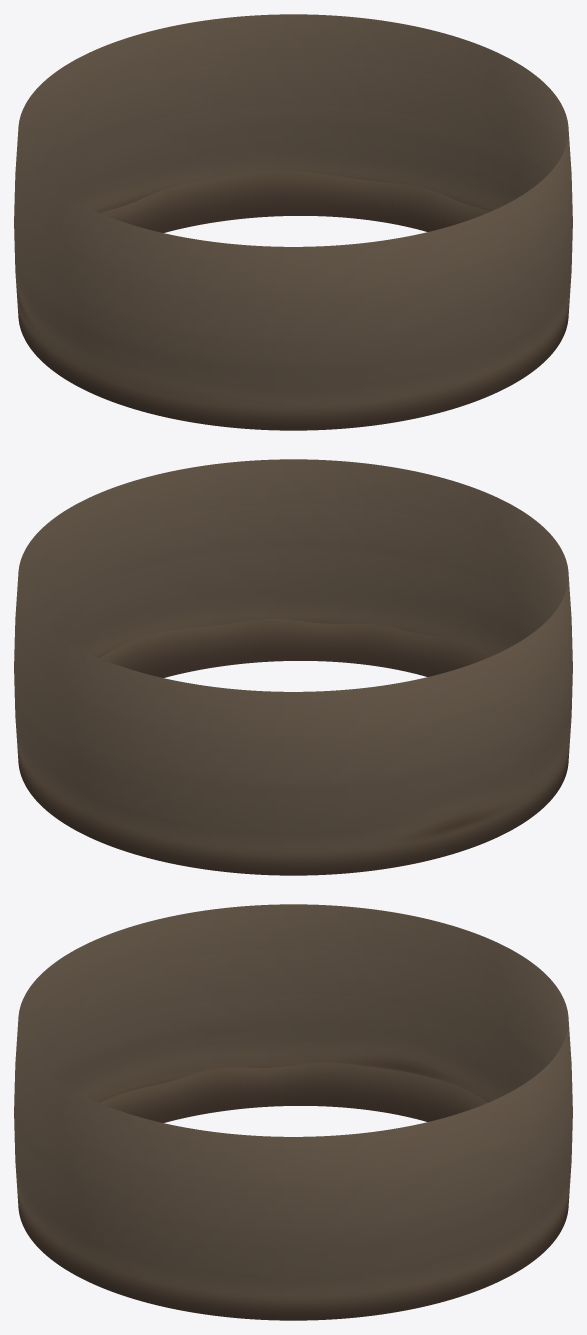
Rendered from dry-gulch-panorama.glb.
The picture shows the model from 3 angles, top to bottom: view 1: azimuth 30°, elevation 25°; view 2: azimuth 150°, elevation 25°; view 3: azimuth 270°, elevation 25°; orthographic projection.
Parts seen in each view (by area): view 1: DryGulchPanorama; view 2: DryGulchPanorama; view 3: DryGulchPanorama.
Boxes of the visible parts, x1=… form: DryGulchPanorama: x1=14, y1=14, x2=572, y2=430; DryGulchPanorama: x1=14, y1=459, x2=572, y2=875; DryGulchPanorama: x1=14, y1=904, x2=572, y2=1320.
Size of the model in its own units: 386 by 140 by 386.
1 material, 1 textured.
